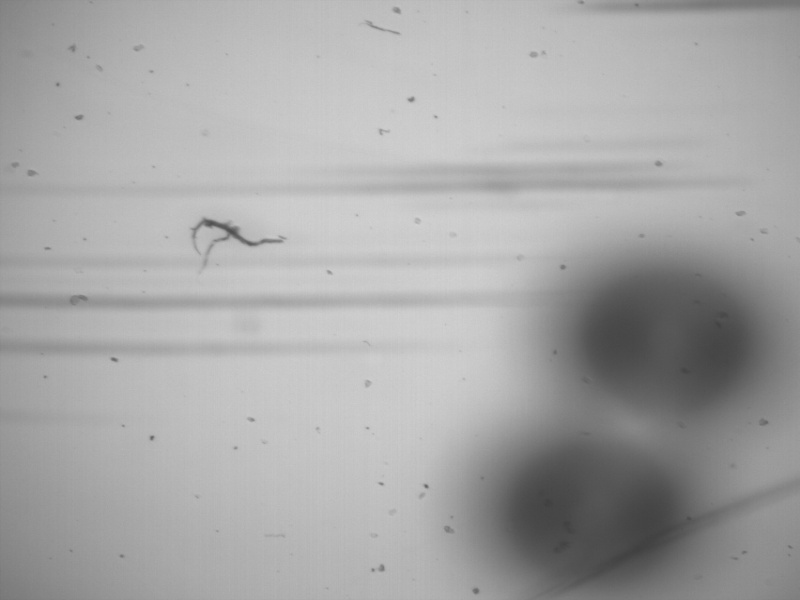bead: (572, 262, 768, 421), (505, 437, 688, 586)
fiber: (521, 468, 799, 600), (188, 217, 287, 275), (357, 18, 401, 37)
